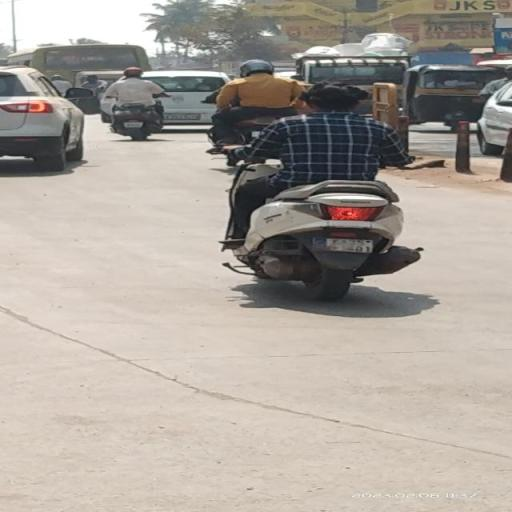bike: (211, 77, 426, 305)
withouthelmet: (306, 80, 362, 111)
